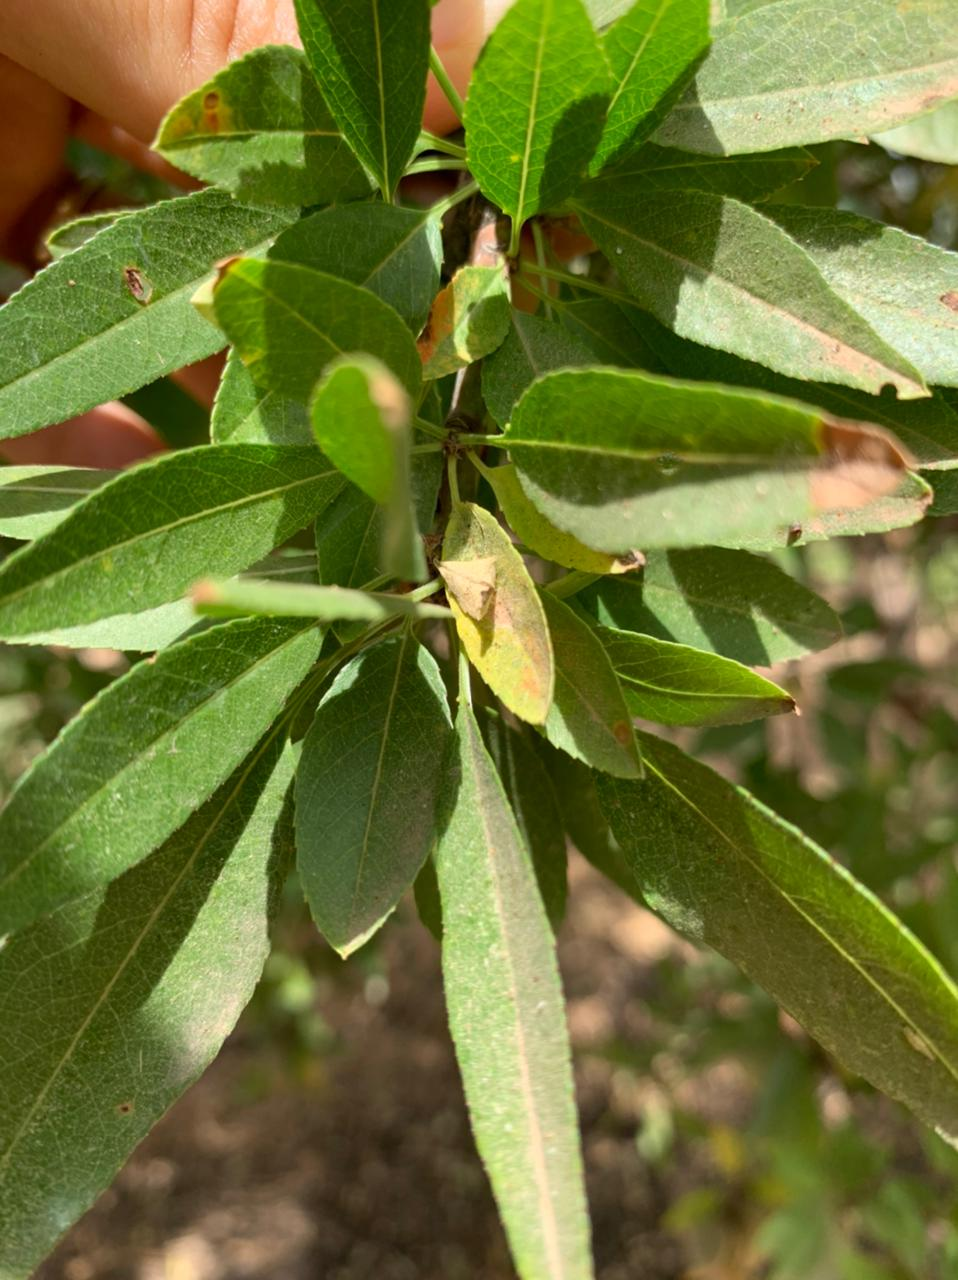othyorinques: (508, 363, 937, 552)
